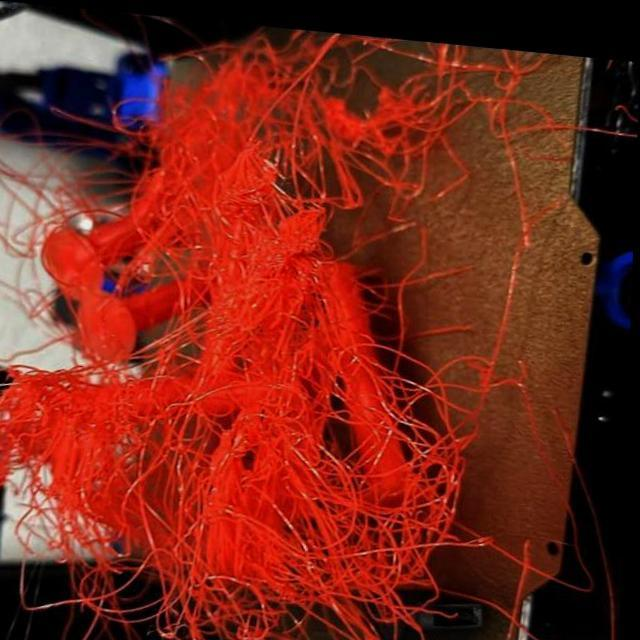spaghetti: (81, 379, 437, 640), (289, 26, 556, 164), (162, 100, 315, 269), (378, 370, 483, 563), (182, 258, 329, 383), (1, 378, 85, 503), (1, 156, 74, 268)
